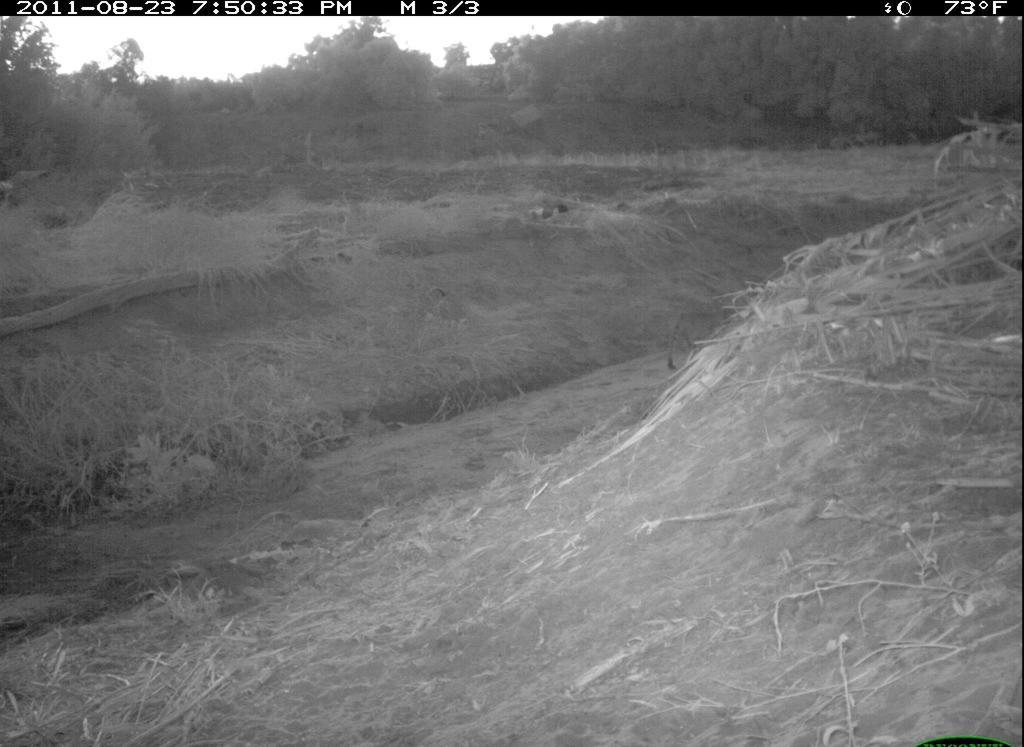bobcat: (659, 277, 745, 371)
